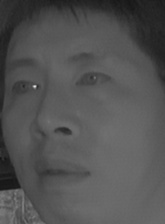eye: (73, 66, 113, 93), (9, 74, 42, 100)
mouth: (34, 154, 93, 190)
